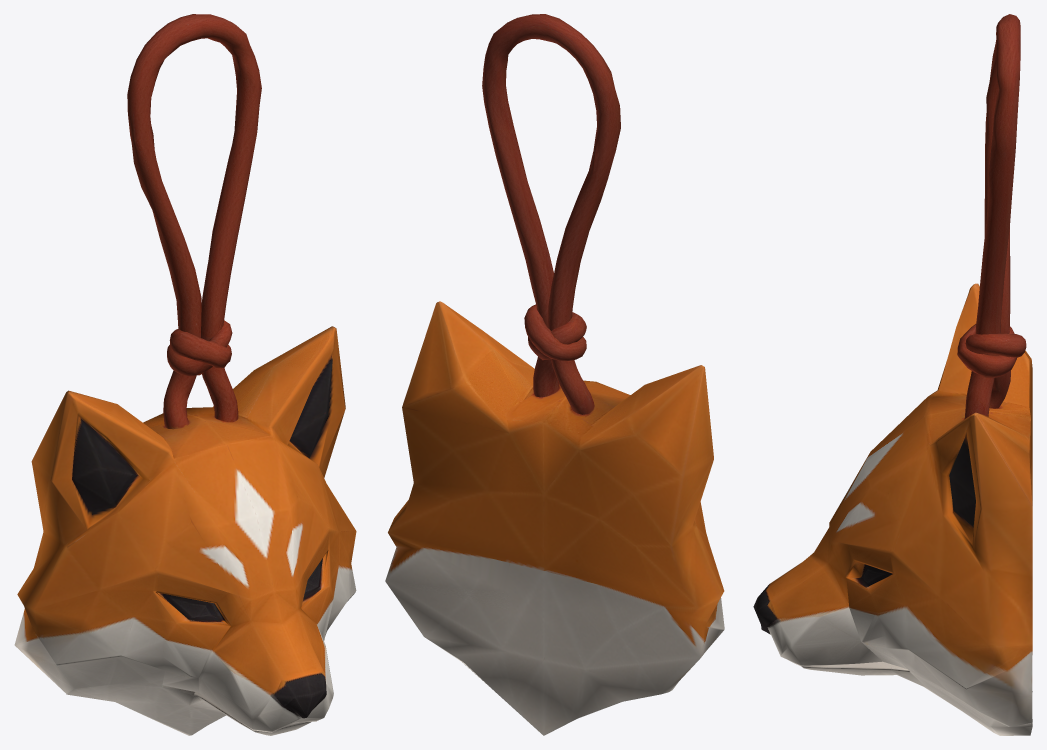
The model's file is foxfire-pack-charm-i1_i23d.glb.
3 views of the same model, side by side, from view 1: azimuth 30°, elevation 25°; view 2: azimuth 150°, elevation 25°; view 3: azimuth 270°, elevation 25° (orthographic).
Bounding box in the file's own units: 0.4585 × 0.9531 × 0.3354.
Materials: 1 (1 with a texture image).
